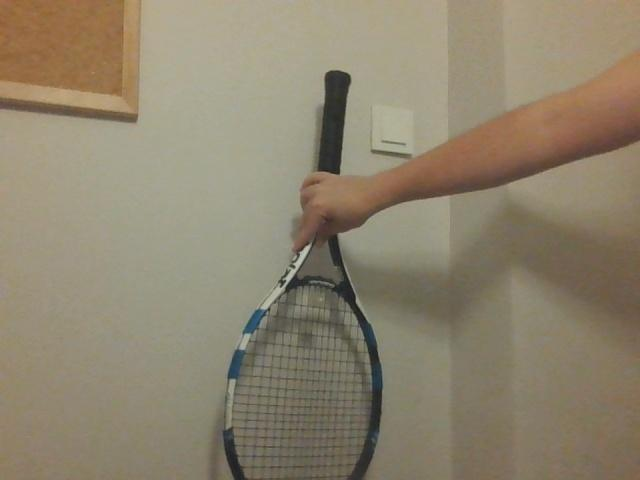Tennis-Racket: (222, 63, 387, 480)
